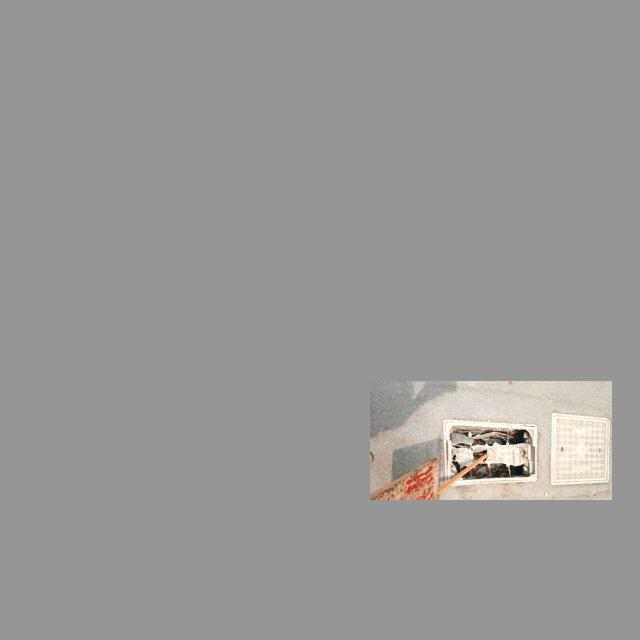broke: (445, 421, 539, 485)
good: (551, 413, 611, 485)
